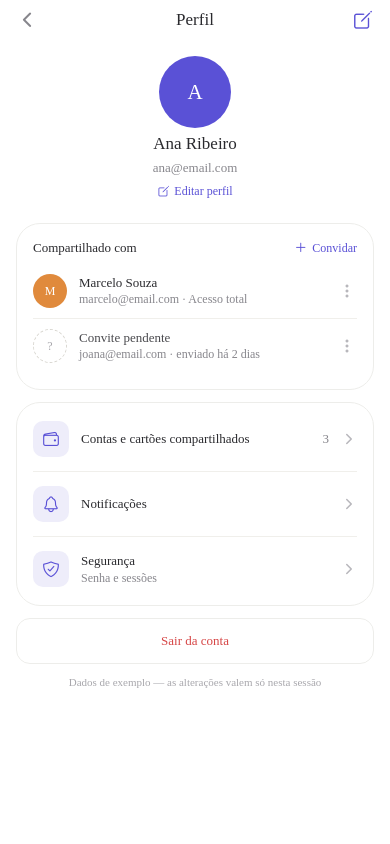
it: Perfil › menu de um membro › abre com as três ações
The image size is (390, 844).
Click the button named "Opções de Marcelo Souza": (347, 291) [337, 280, 357, 302]
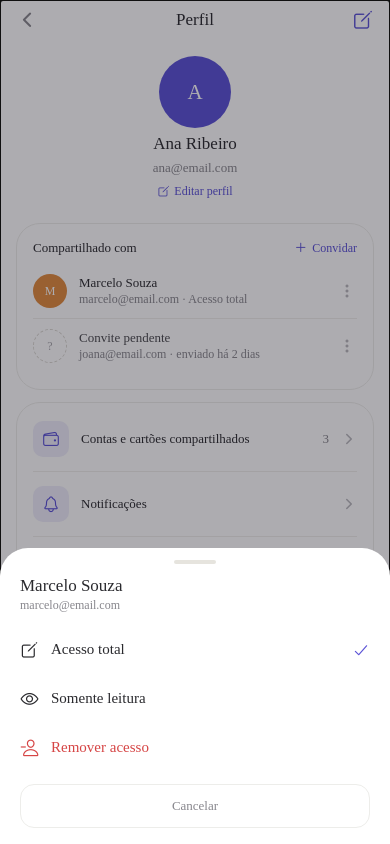
Now the text "Acesso total" is shown, box [51, 641, 125, 657]
Now the text "Somente leitura" is shown, box [51, 690, 146, 706]
Now the text "Remover acesso" is shown, box [51, 739, 149, 755]
